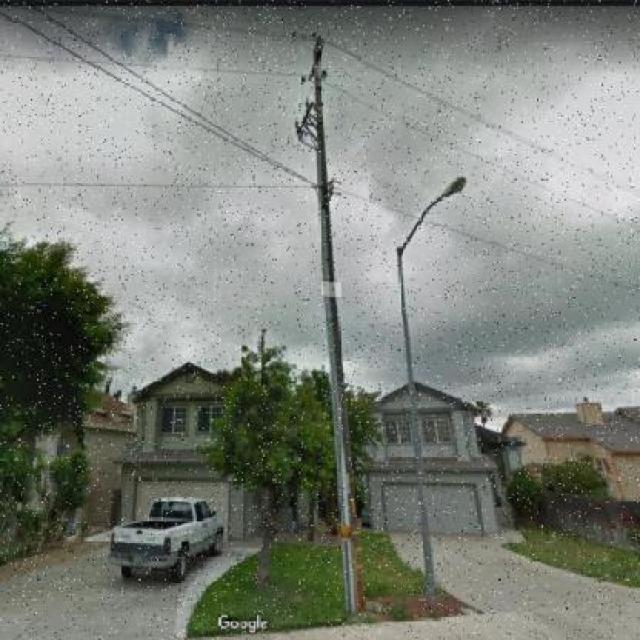pole: (264, 17, 382, 631)
